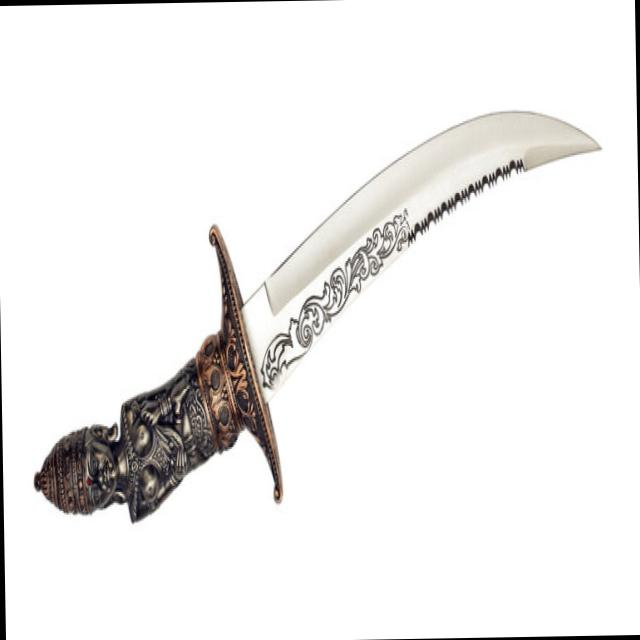Gun: (14, 86, 625, 575)
